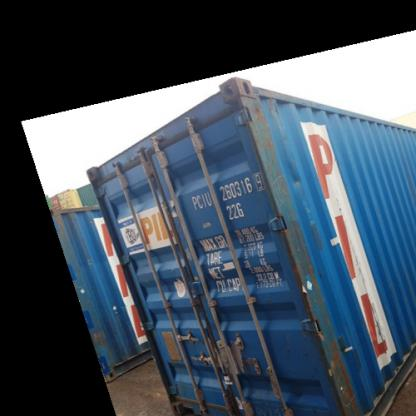Damage: (283, 221, 324, 313), (321, 317, 359, 410), (259, 137, 288, 218), (232, 79, 264, 150), (276, 374, 315, 402)
